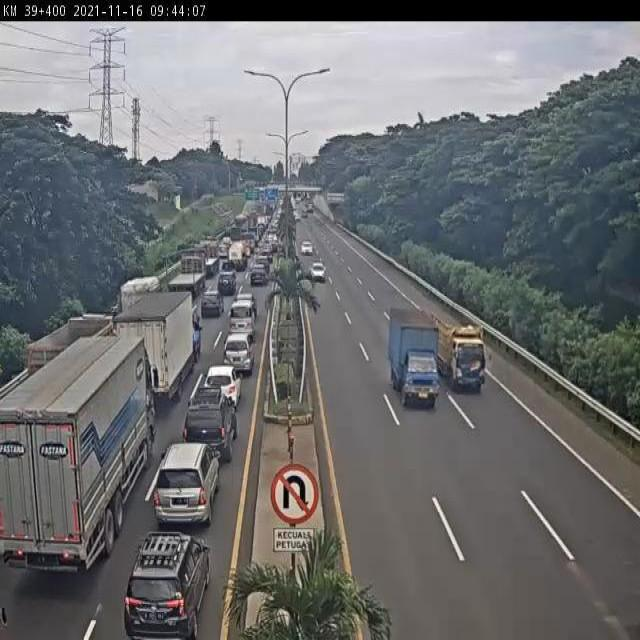big truck: (226, 240, 247, 269)
car: (117, 518, 220, 640), (147, 437, 231, 527), (187, 388, 239, 452), (202, 354, 240, 409), (226, 292, 271, 336), (219, 330, 262, 374), (199, 284, 226, 327), (306, 261, 338, 291), (217, 264, 242, 296), (250, 260, 273, 292), (215, 228, 234, 260), (300, 233, 317, 259)
small truck: (387, 307, 441, 413), (434, 312, 487, 399)
truck-l-: (0, 328, 152, 584), (171, 250, 210, 298), (193, 233, 223, 280)
truck-m-: (107, 287, 200, 396), (28, 314, 118, 426), (109, 272, 164, 340)
